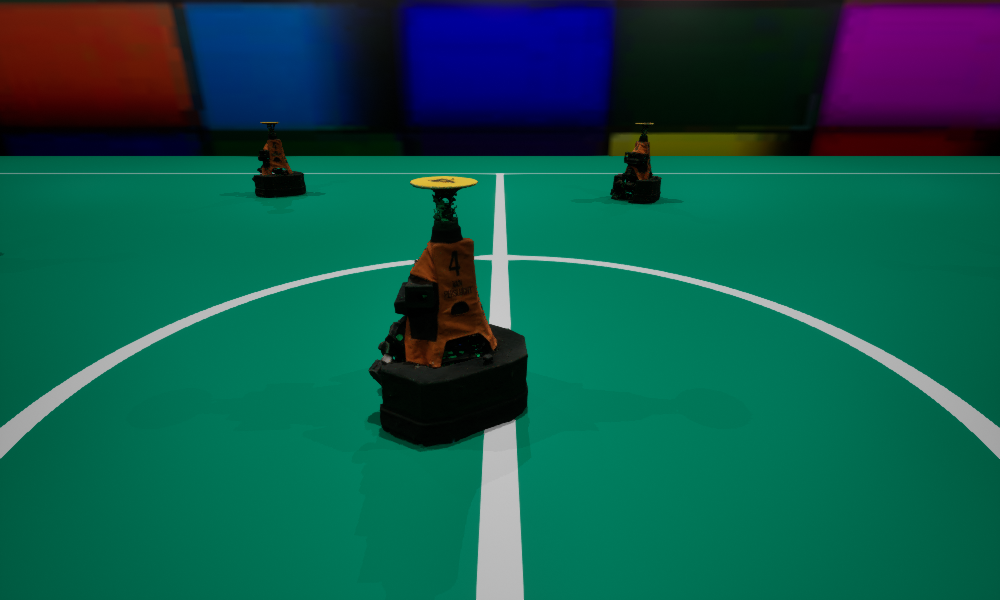o: (368, 176, 527, 445), (610, 123, 661, 202), (252, 122, 305, 197)
